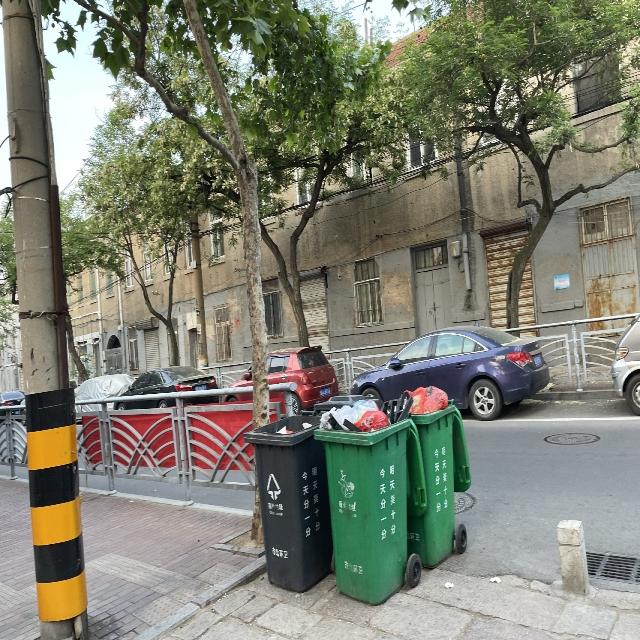garbage_bin: (242, 413, 332, 593)
overflow: (314, 391, 426, 605), (405, 384, 471, 566)
